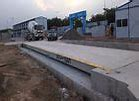Industrial Scale: (16, 40, 139, 80)
